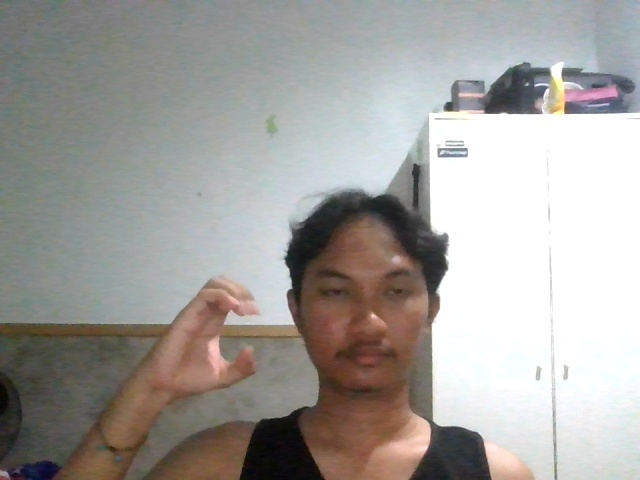c: (136, 268, 272, 394)
